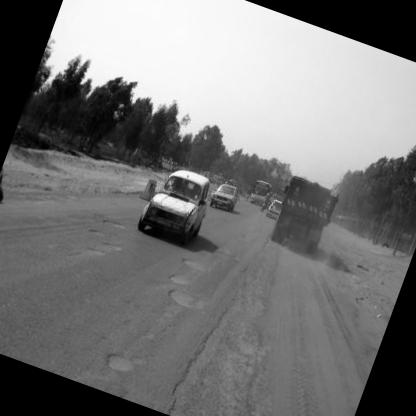car: (126, 152, 224, 252), (205, 168, 248, 225), (261, 191, 292, 225), (246, 180, 272, 209)
